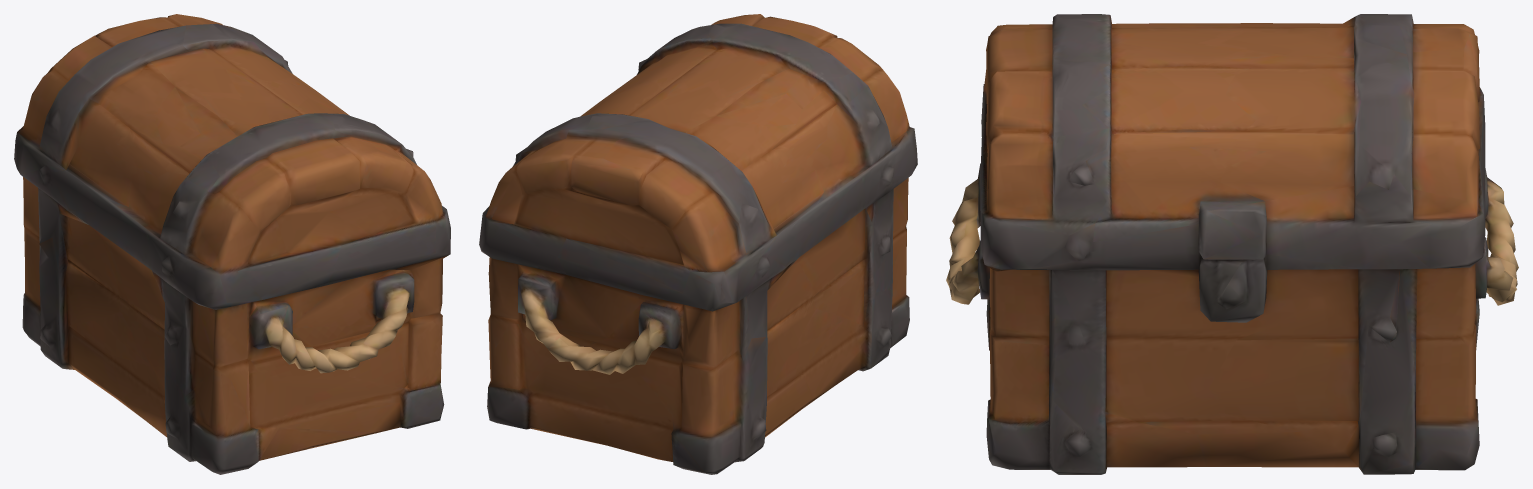
File: f-chest.glb
The picture shows the model from 3 angles, left to right: view 1: azimuth 30°, elevation 25°; view 2: azimuth 150°, elevation 25°; view 3: azimuth 270°, elevation 25°; orthographic projection. The views are drawn at different scales.
Parts seen in each view (by area): view 1: tripo_node_87c6676a-8aaf-421d-a7df-890eda75d6ae; view 2: tripo_node_87c6676a-8aaf-421d-a7df-890eda75d6ae; view 3: tripo_node_87c6676a-8aaf-421d-a7df-890eda75d6ae.
Part boxes in pixels (x1,y1,x2,y2): tripo_node_87c6676a-8aaf-421d-a7df-890eda75d6ae: [14, 14, 450, 474]; tripo_node_87c6676a-8aaf-421d-a7df-890eda75d6ae: [479, 14, 917, 474]; tripo_node_87c6676a-8aaf-421d-a7df-890eda75d6ae: [946, 14, 1518, 474].
Bounding box in the file's own units: 0.6767 × 0.7192 × 1.
Materials: 1 (1 with a texture image).
